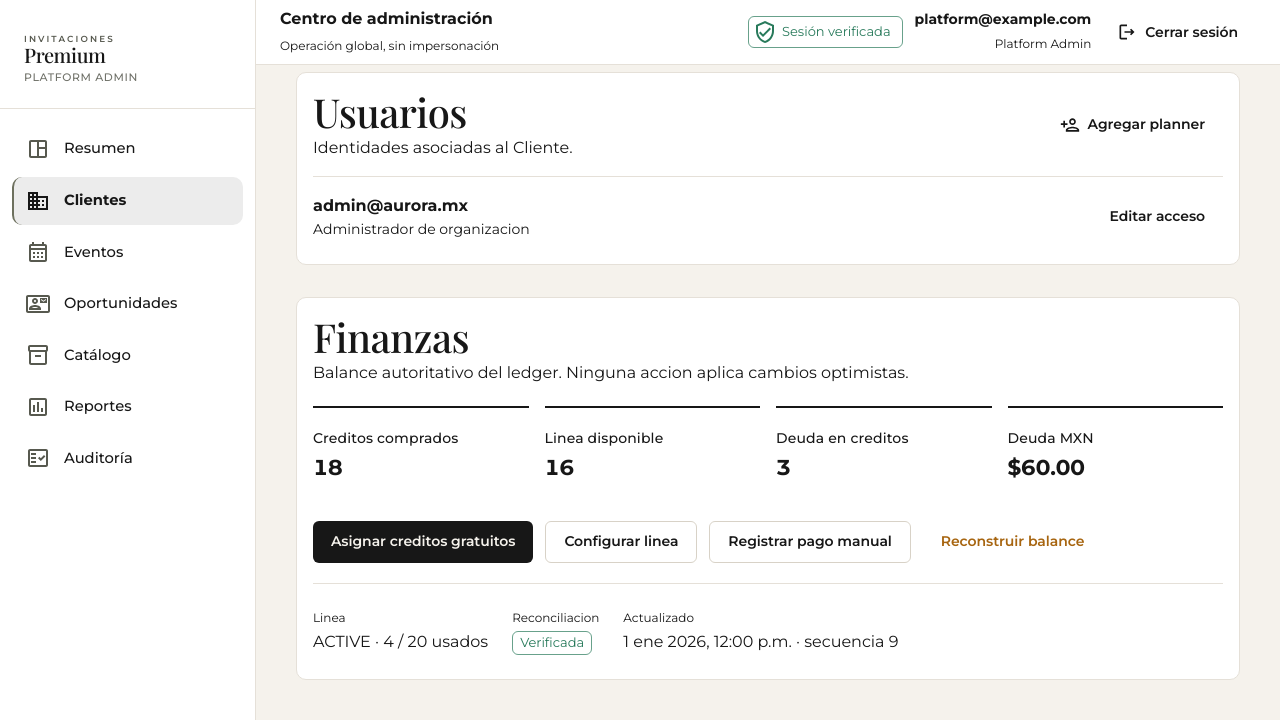
Test: Admin Client finance › uses the registered key for an immediate retry after an uncertain failure
(page scrolled)
Click the button "Asignar creditos gratuitos" at (423, 542), box x1=313 y1=521 x2=533 y2=563
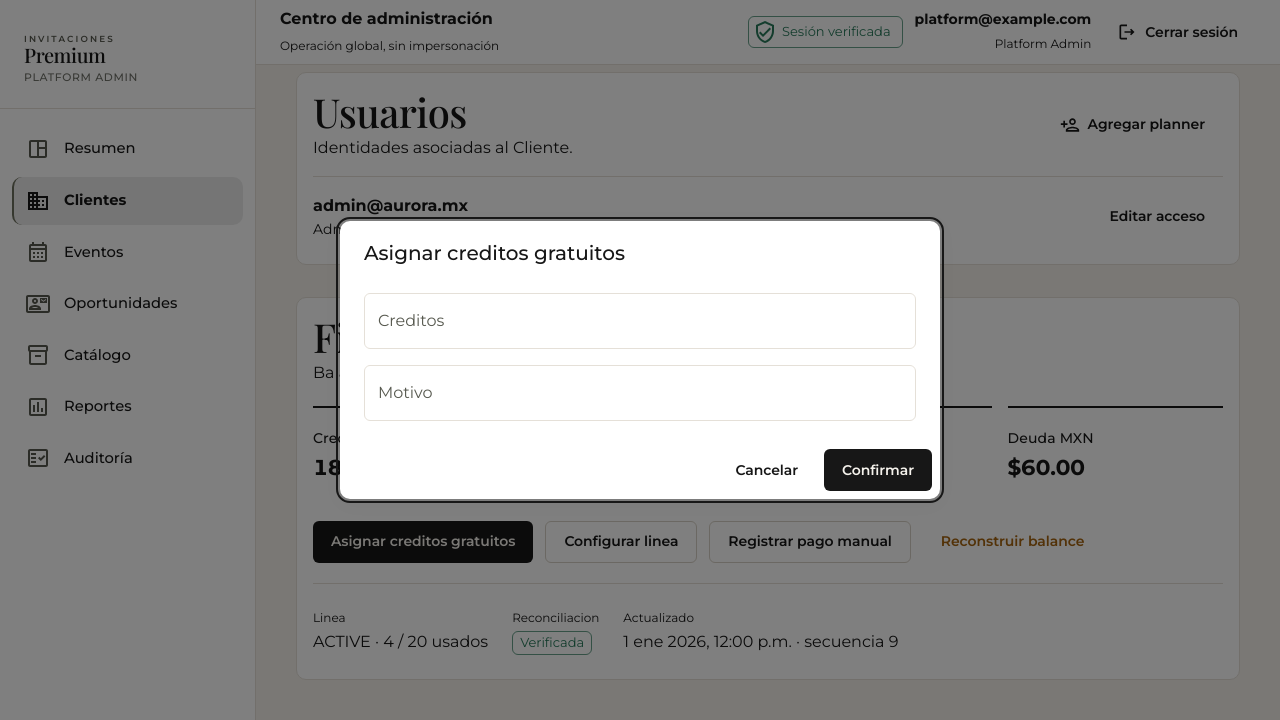
Type "2" into the field labelled "Creditos" at (640, 321), box x1=364 y1=293 x2=916 y2=349
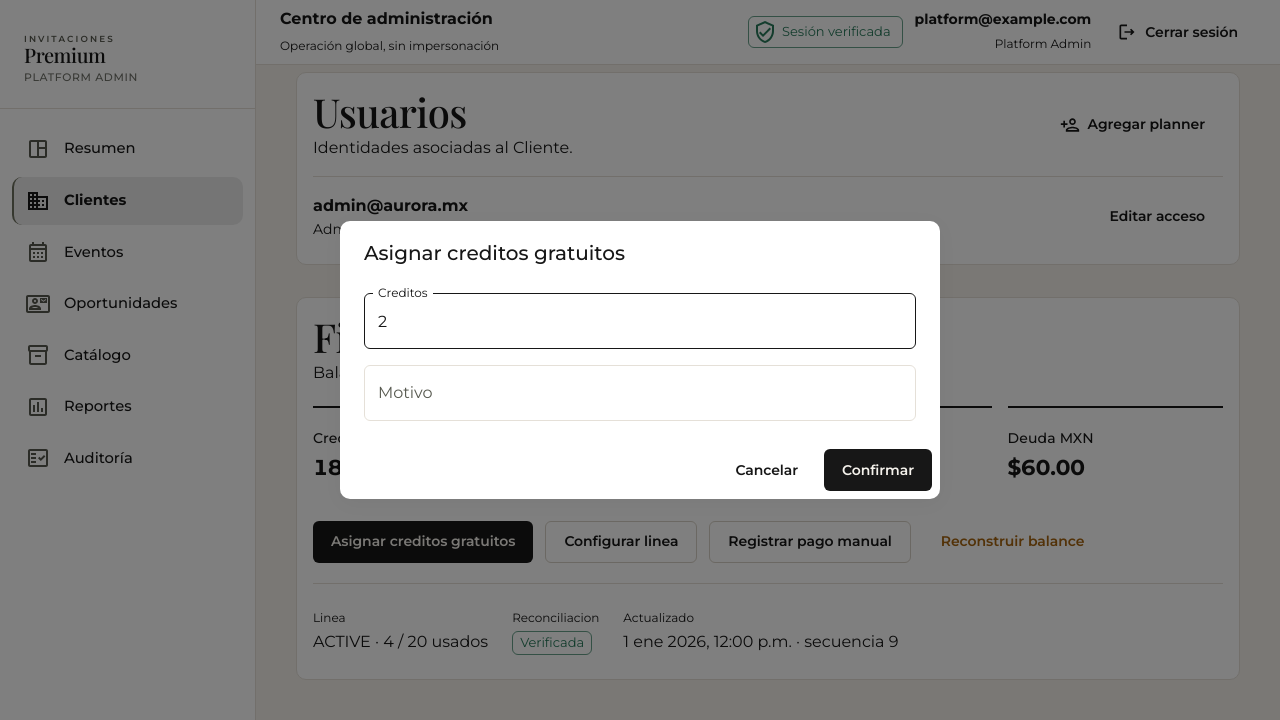
Type "Ajuste" into the text box labelled "Motivo" at (640, 393), box x1=378 y1=382 x2=902 y2=404
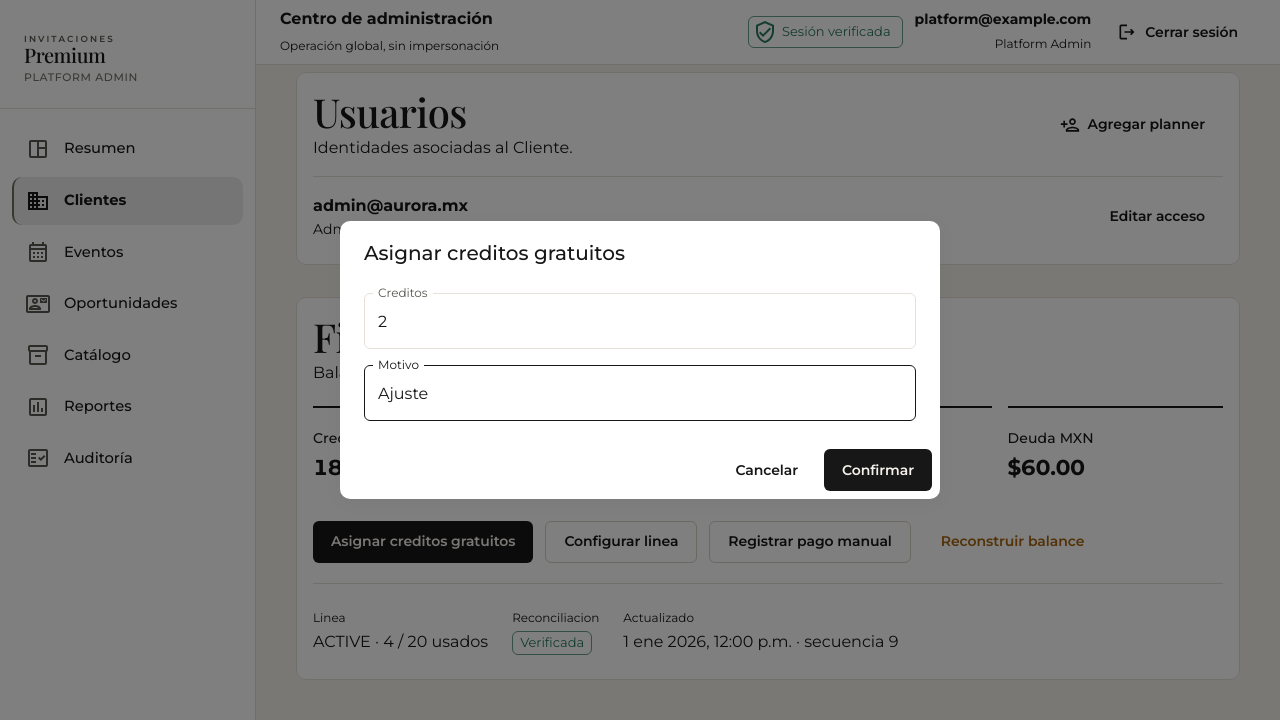
Click the button "Confirmar" at (878, 470), box x1=824 y1=449 x2=932 y2=491
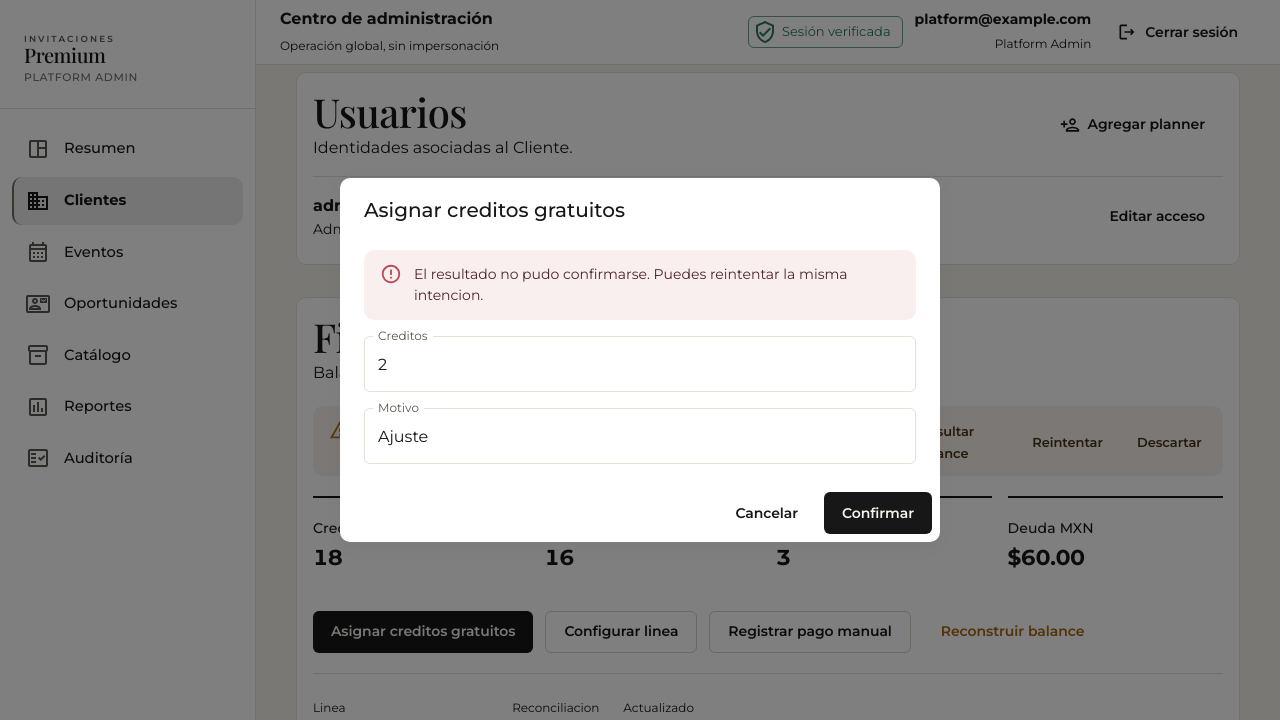
Check: the text "resultado no pudo confirmarse" is shown, box x1=414 y1=265 x2=848 y2=304
Click the button "Confirmar" at (878, 513), box x1=824 y1=492 x2=932 y2=534
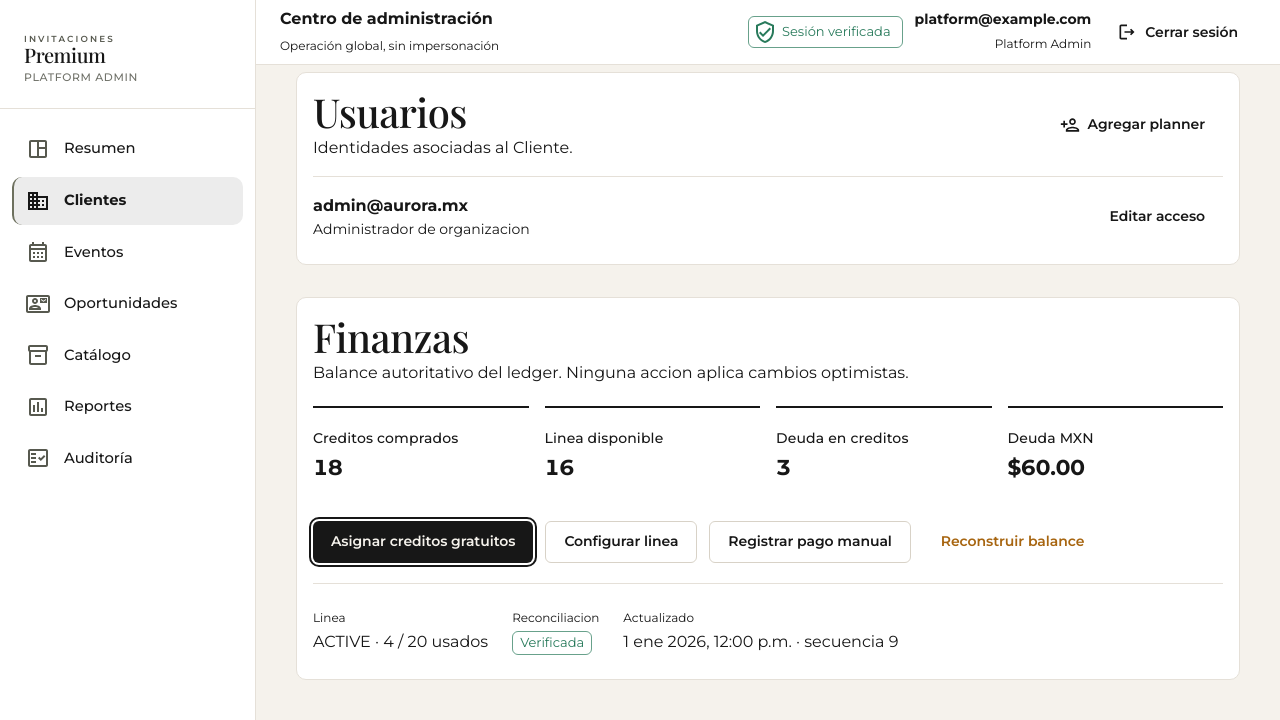
Check: the dialog is gone
